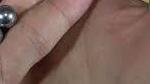ironball: (0, 3, 22, 31), (0, 22, 4, 46)
